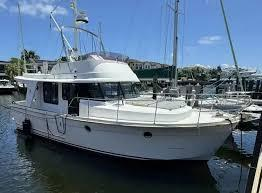Ship: (11, 28, 238, 161)
